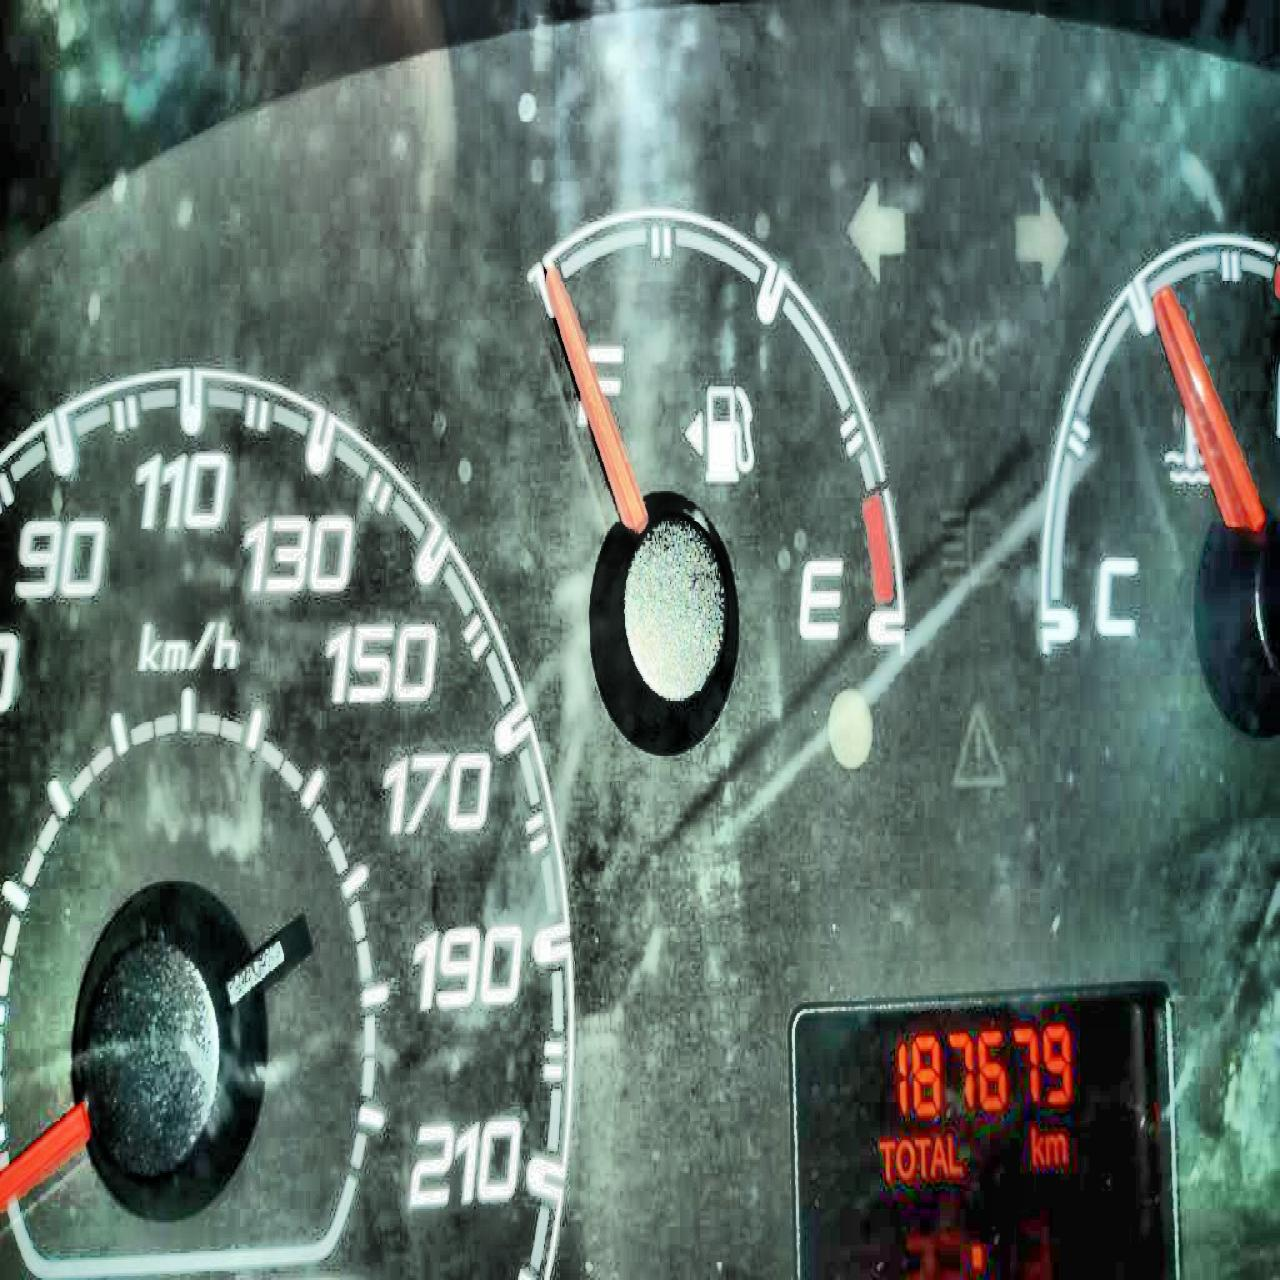1: (896, 1032, 908, 1118)
6: (978, 1024, 1007, 1111)
7: (1012, 1022, 1040, 1111), (946, 1024, 974, 1111)
8: (911, 1029, 944, 1118)
9: (1043, 1020, 1073, 1107)
X: (912, 1126, 930, 1180), (876, 1136, 896, 1183), (1043, 1131, 1068, 1169), (945, 1129, 962, 1180), (896, 1136, 913, 1183), (1027, 1121, 1042, 1166), (931, 1133, 945, 1179)
odometer: (782, 973, 1190, 1278)
